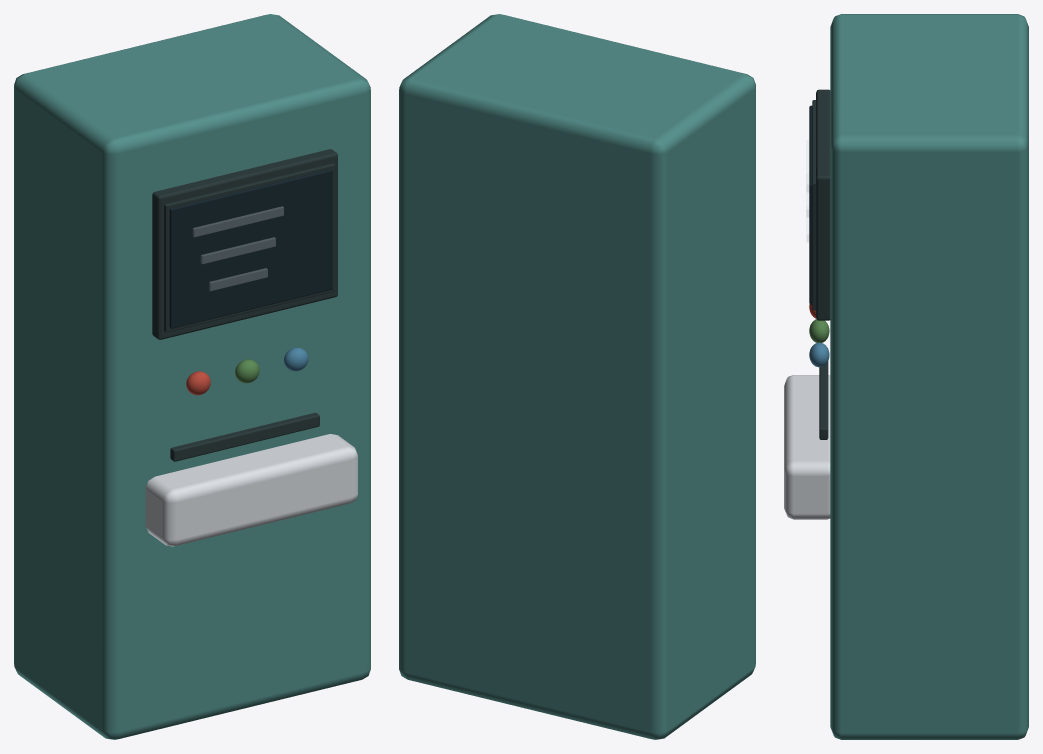
The model's file is wp-distributeur-de-billets.glb.
3 renders of one model, left to right at view 1: azimuth 30°, elevation 25°; view 2: azimuth 150°, elevation 25°; view 3: azimuth 270°, elevation 25°, orthographic.
Parts seen in each view (by area): view 1: wp-distributeur-de-billets; view 2: wp-distributeur-de-billets; view 3: wp-distributeur-de-billets.
Boxes of the visible parts, left/top/right/bottom form: wp-distributeur-de-billets: left=14, top=14, right=370, bottom=739; wp-distributeur-de-billets: left=399, top=14, right=755, bottom=739; wp-distributeur-de-billets: left=784, top=14, right=1028, bottom=739.
Bounding box in the file's own units: 0.7 × 1.5 × 0.55.
